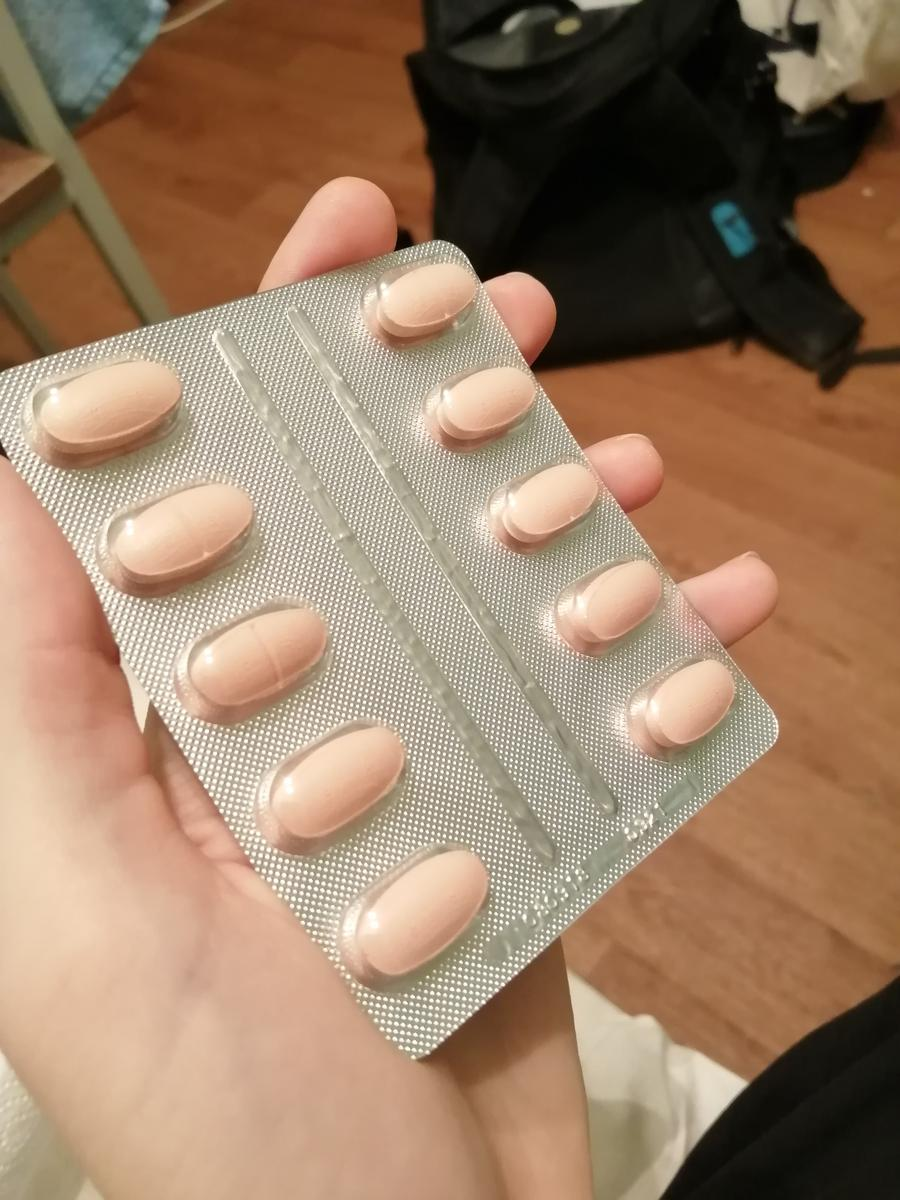tablet: (339, 838, 499, 988), (260, 714, 406, 850), (177, 599, 332, 711), (99, 478, 258, 581), (34, 356, 181, 447), (432, 359, 548, 449), (560, 554, 670, 647), (494, 454, 606, 544), (368, 254, 479, 344), (631, 654, 737, 745)
